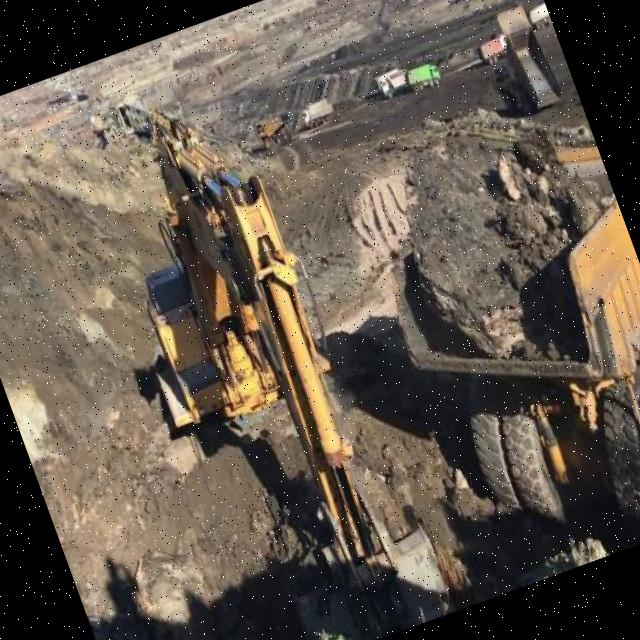Dump Truck: (345, 94, 640, 589), (471, 0, 568, 120), (253, 110, 293, 150), (474, 28, 511, 67), (301, 94, 335, 130), (406, 62, 444, 91), (378, 70, 411, 102), (525, 1, 553, 32)
Excavator: (56, 54, 465, 640)
